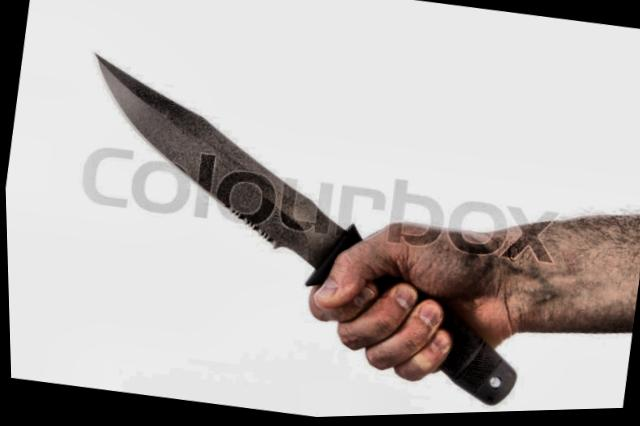knife: (38, 28, 476, 378)
